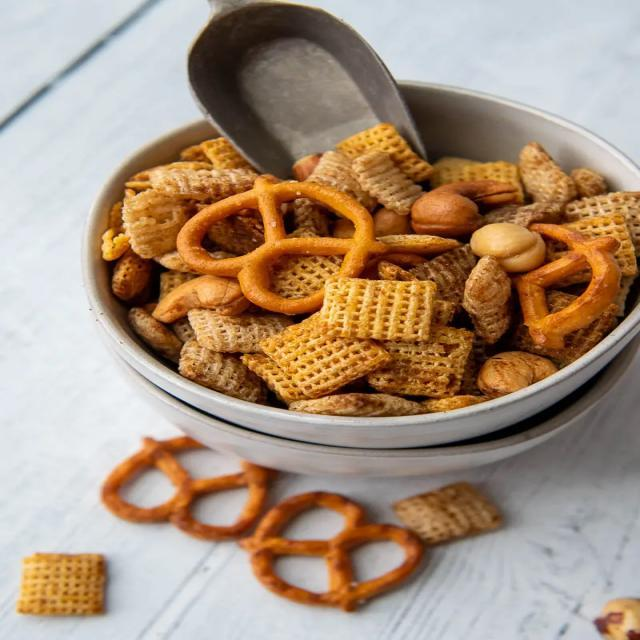Salatini: (110, 128, 628, 405)
